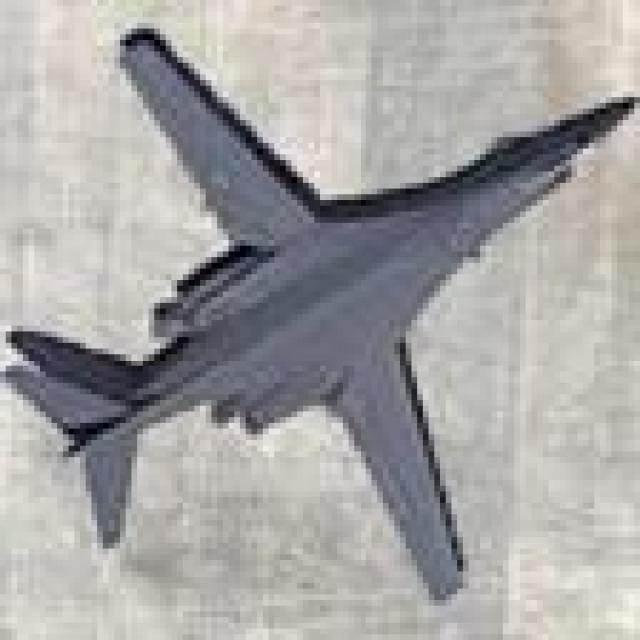B-1_TopDown: (0, 17, 634, 600)
